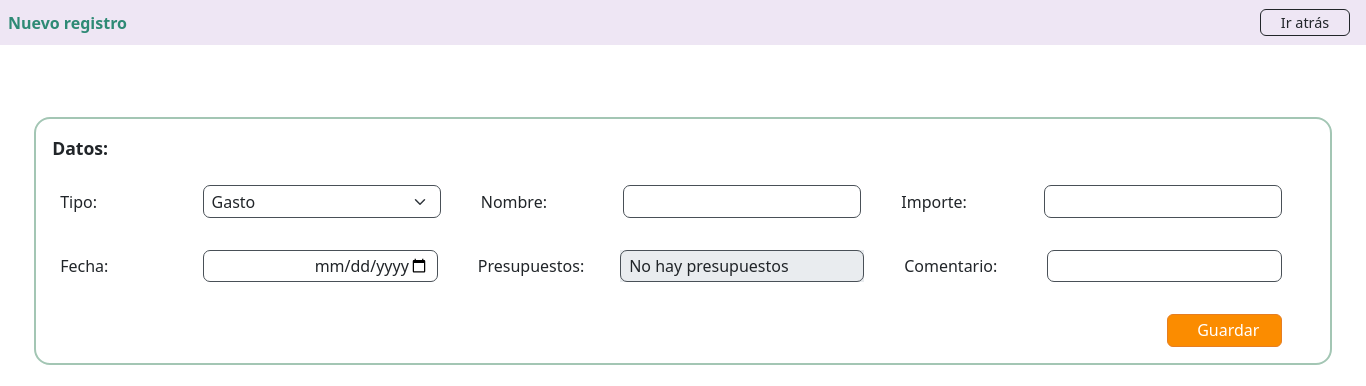
Scenario: RecordIndividual Component Test › shows error if required fields are missing test
Expected: the text "Datos:" is shown, [52,135,108,161]
Click the button "Guardar" at (1224, 330), box [1167,314,1282,346]
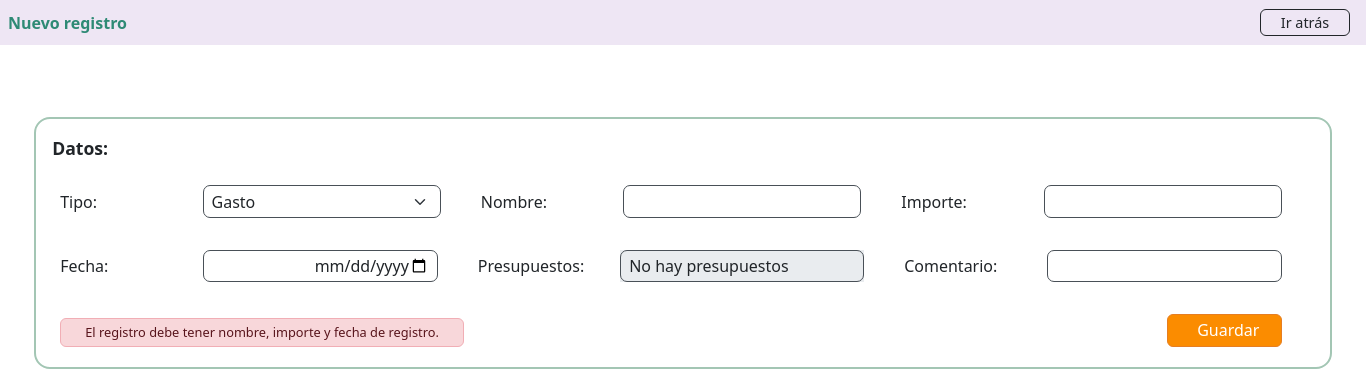
Expected: the text "El registro debe tener nombre, importe y fecha de registro." is shown, [60,318,464,347]
